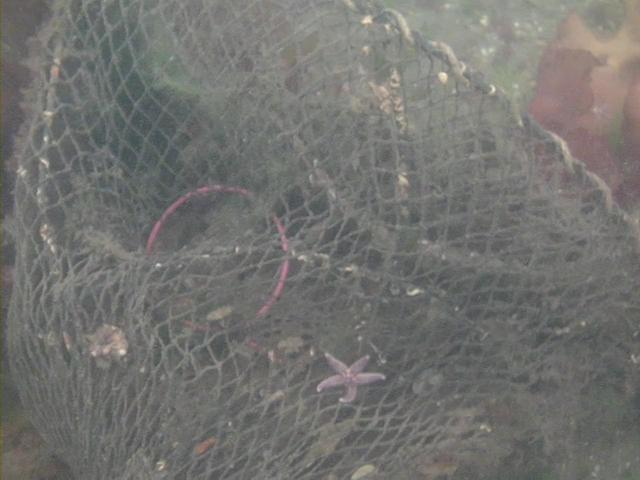fish net: (6, 0, 639, 480)
